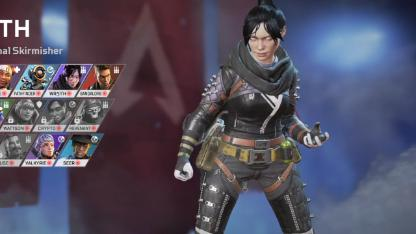Target: (203, 4, 297, 222)
